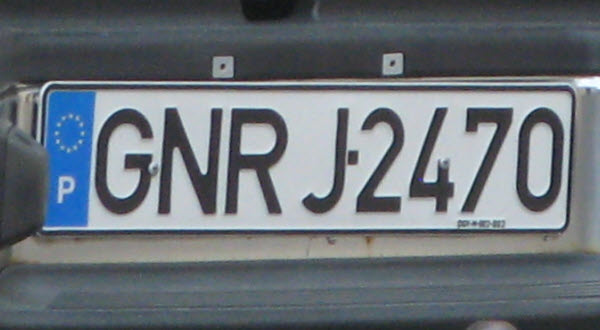license_plate: (36, 83, 574, 232)
